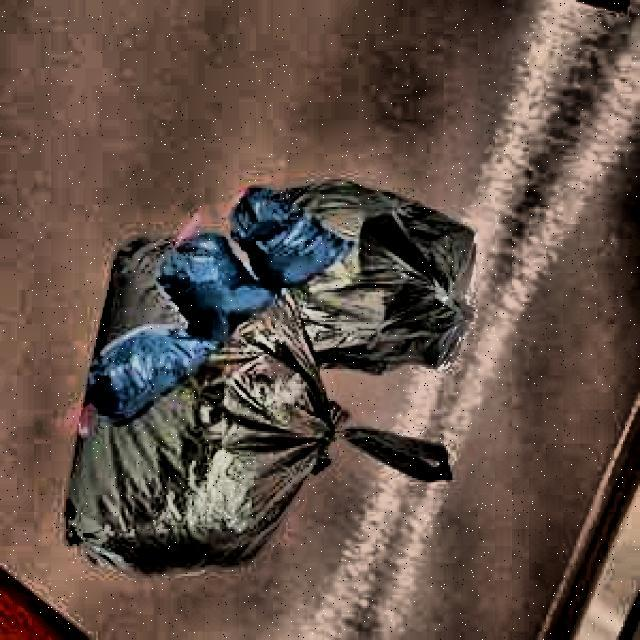Trashbag: (83, 319, 212, 430), (156, 232, 261, 333), (235, 192, 334, 280)
